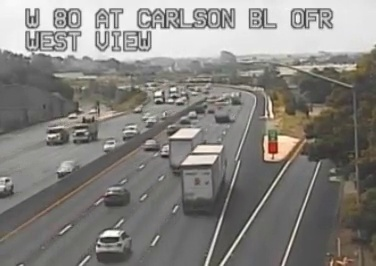car: (95, 230, 131, 258), (104, 186, 129, 204), (143, 139, 158, 150)
truck: (180, 144, 225, 214), (169, 127, 202, 174)
